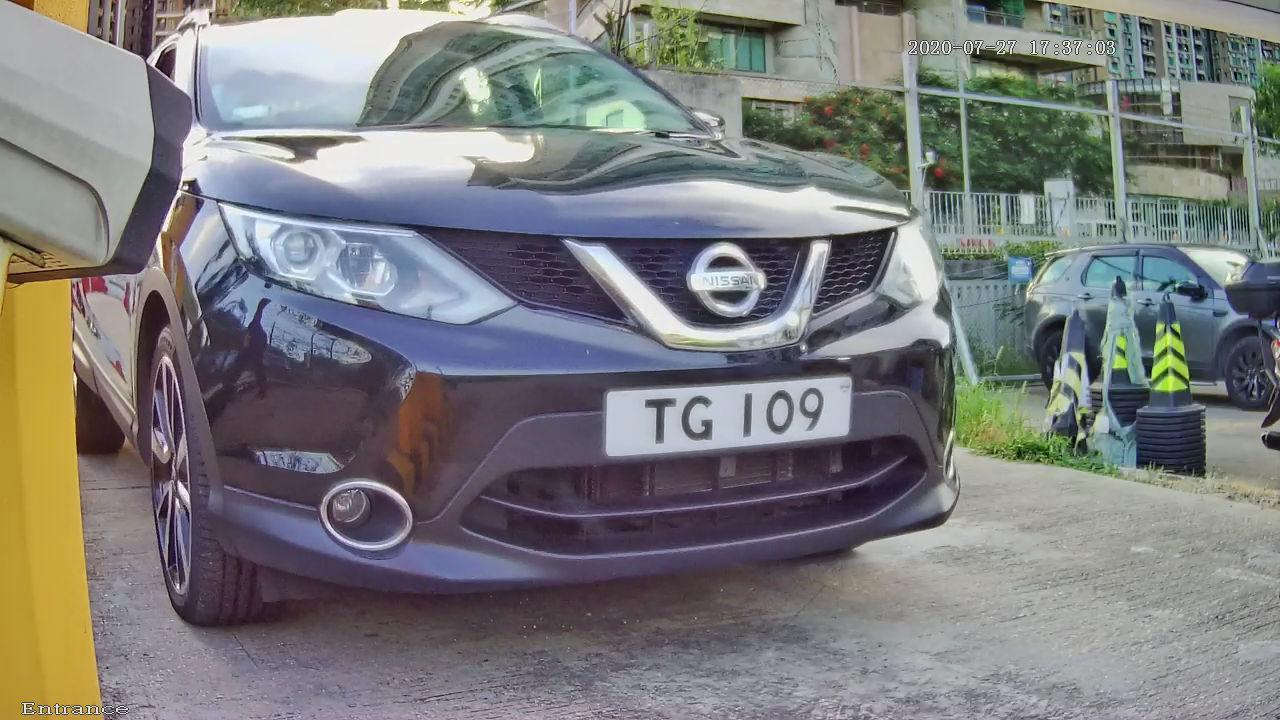privatecar: (69, 26, 1058, 640)
